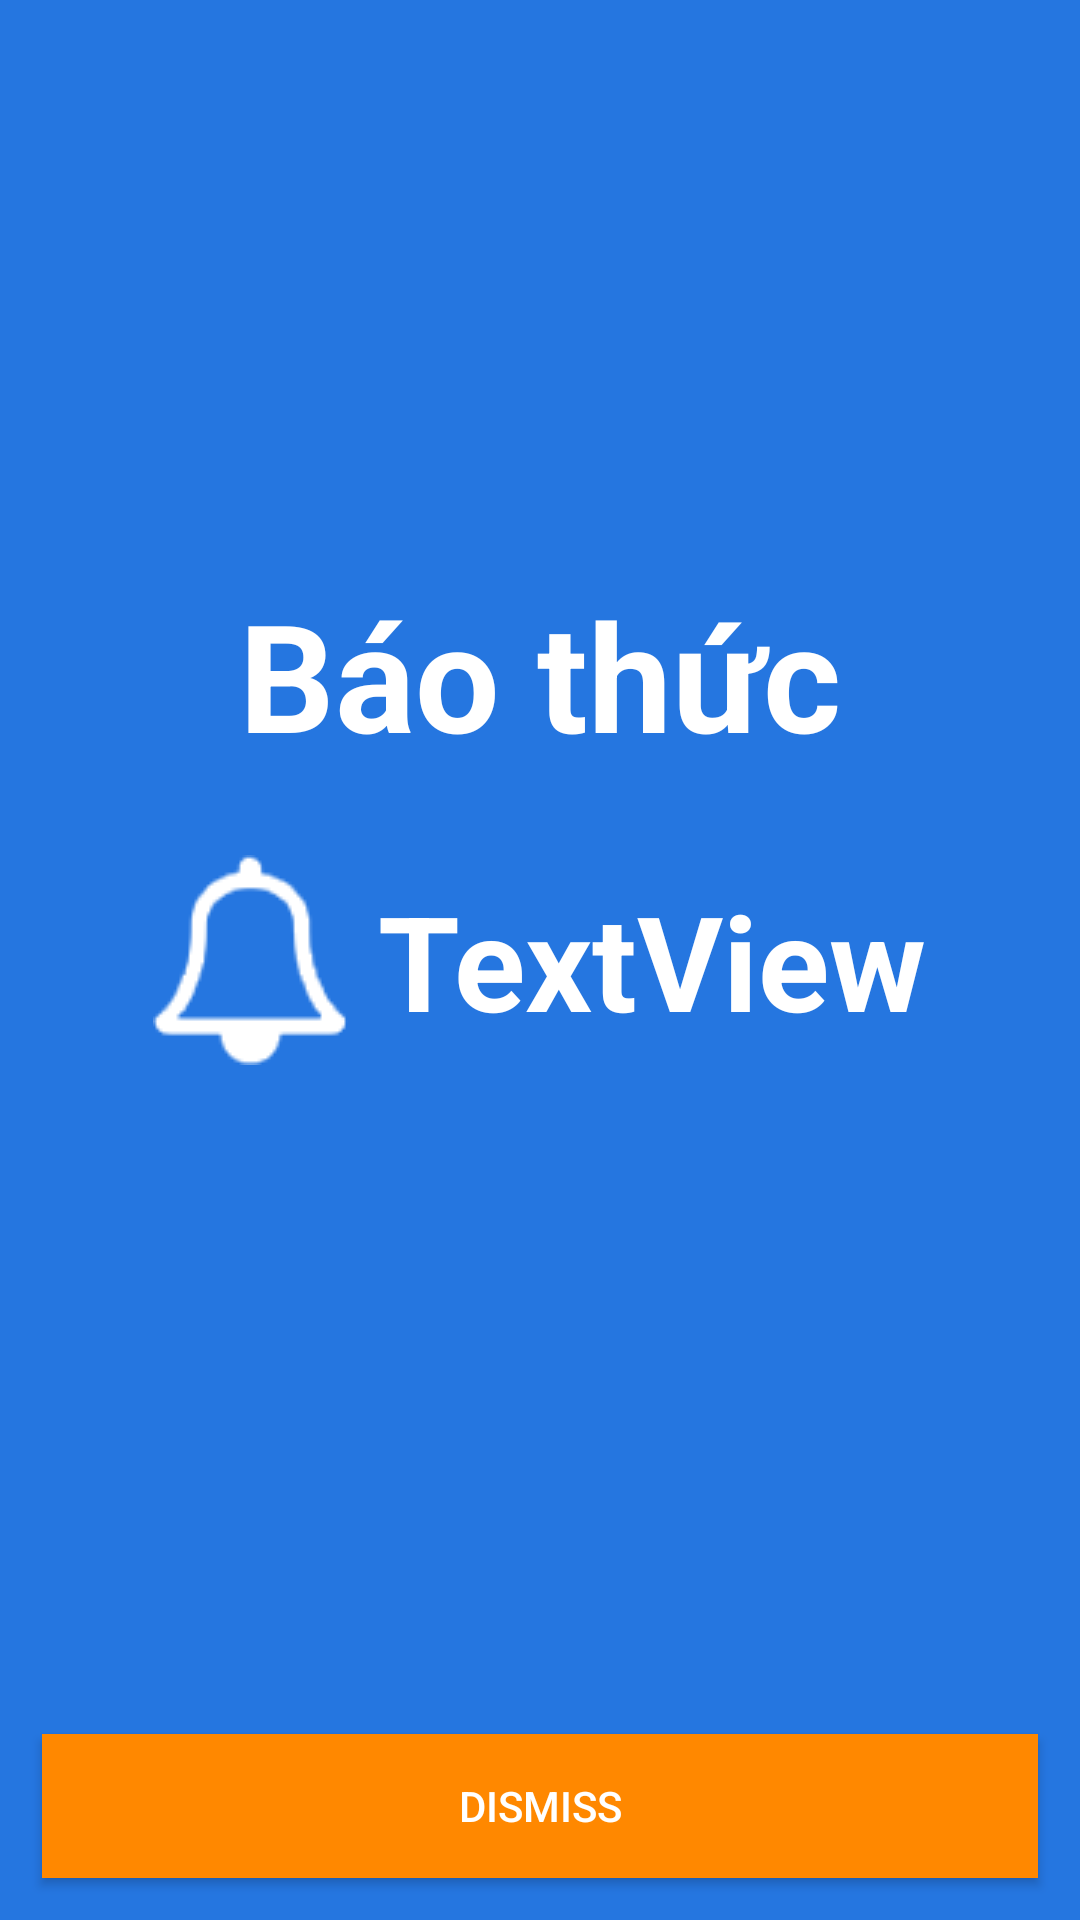

Screen size 1080px x 1920px. Icon name, then its center in pixels as (x=x, y=y):
bell: (x=249, y=960)
